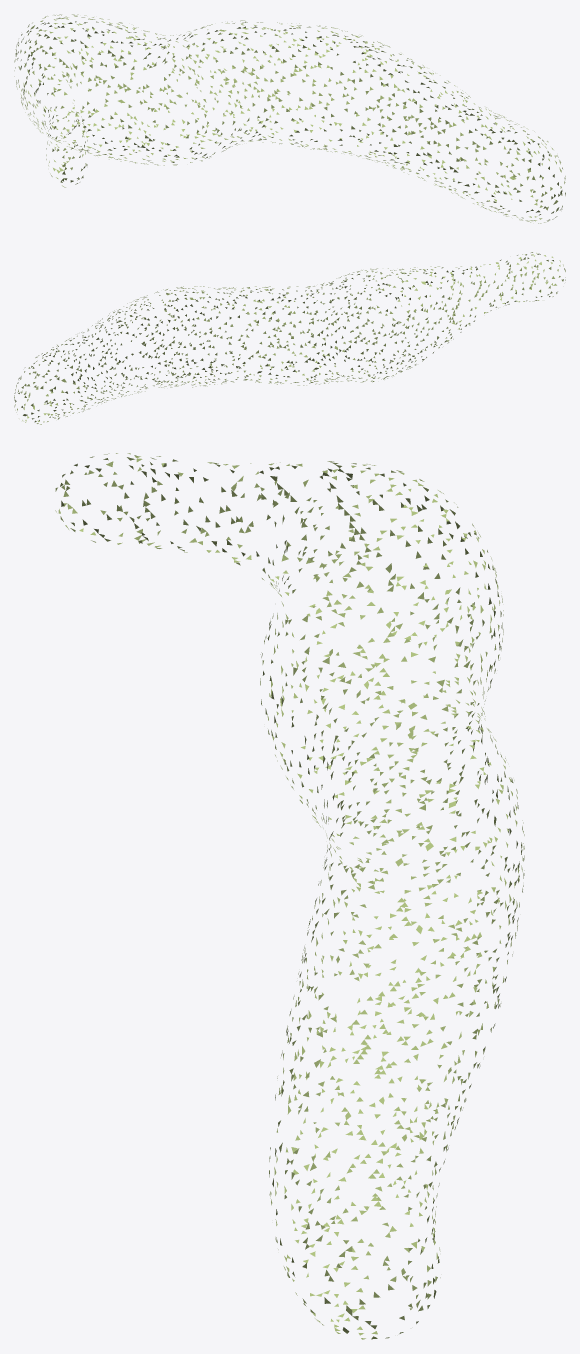
File: morph_011.glb
3 renders of one model, top to bottom at view 1: azimuth 30°, elevation 25°; view 2: azimuth 150°, elevation 25°; view 3: azimuth 270°, elevation 25°, orthographic. The views are drawn at different scales.
Bounding box in the file's own units: 108 × 54.4 × 47.02.
